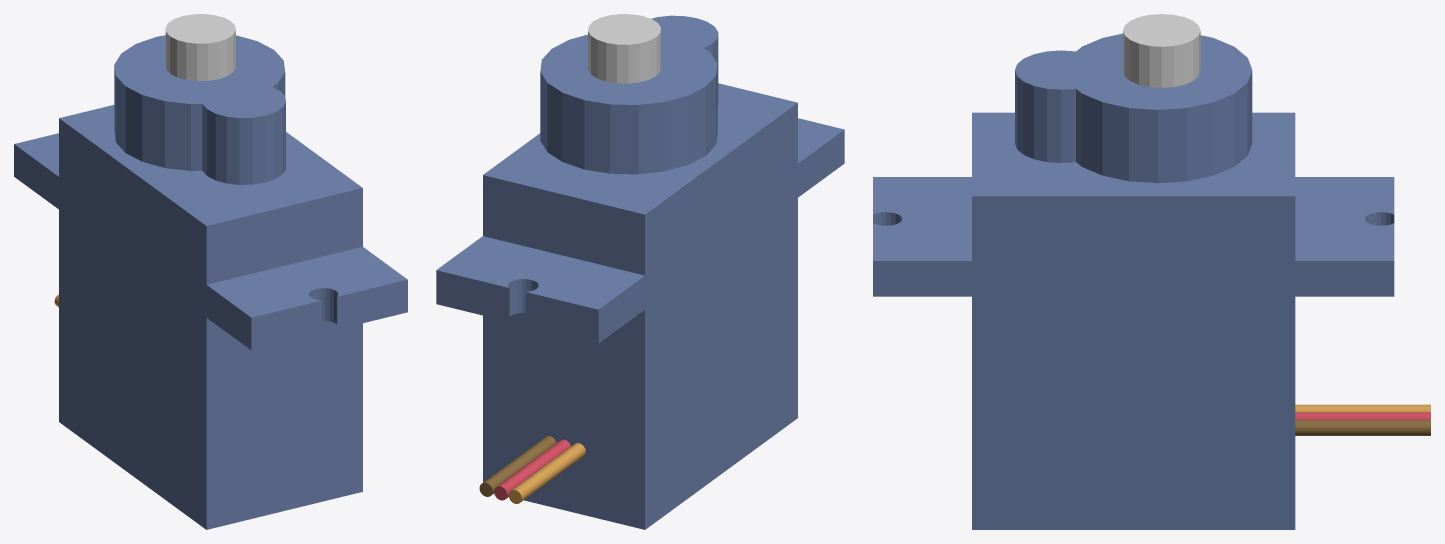
File: serveau_moteur.glb
The picture shows the model from 3 angles, left to right: view 1: azimuth 30°, elevation 25°; view 2: azimuth 150°, elevation 25°; view 3: azimuth 270°, elevation 25°; orthographic projection. The views are drawn at different scales.
Visible parts, largest first — view 1: Mesh_Mesh_head_geo.001_lambert2SG.001; view 2: Mesh_Mesh_head_geo.001_lambert2SG.001; view 3: Mesh_Mesh_head_geo.001_lambert2SG.001.
Boxes of the visible parts, box(x1,y1,x2,y2) form: Mesh_Mesh_head_geo.001_lambert2SG.001: box(14, 14, 407, 529); Mesh_Mesh_head_geo.001_lambert2SG.001: box(436, 14, 844, 529); Mesh_Mesh_head_geo.001_lambert2SG.001: box(873, 14, 1430, 529).
Size of the model in its own units: 0.0123 by 0.0313 by 0.0345.
